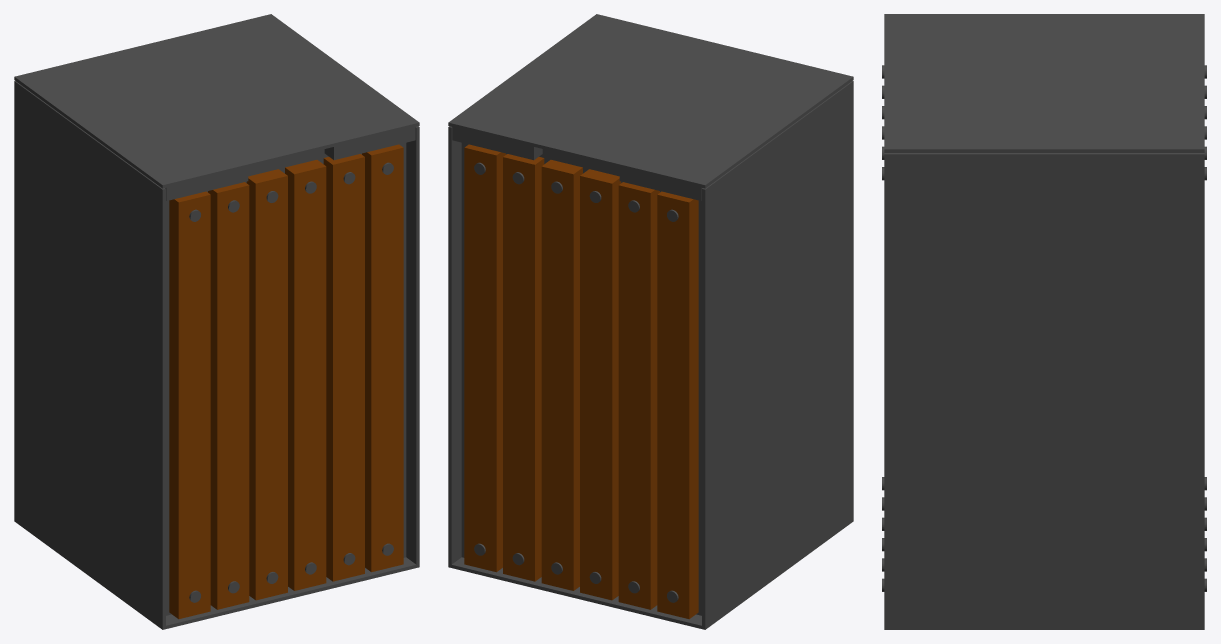
Rendered from Papelera.fbx.
3 renders of one model, left to right at view 1: azimuth 30°, elevation 25°; view 2: azimuth 150°, elevation 25°; view 3: azimuth 270°, elevation 25°, orthographic. The views are drawn at different scales.
Parts seen in each view (by area): view 1: Base; view 2: Base; view 3: Base.
Boxes of the visible parts, x1=… form: Base: x1=14, y1=14, x2=419, y2=629; Base: x1=448, y1=14, x2=853, y2=629; Base: x1=882, y1=14, x2=1206, y2=629.
Bounding box in the file's own units: 40 × 66.15 × 40.54.
